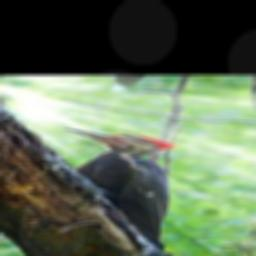Woodpecker: (59, 126, 177, 250)
